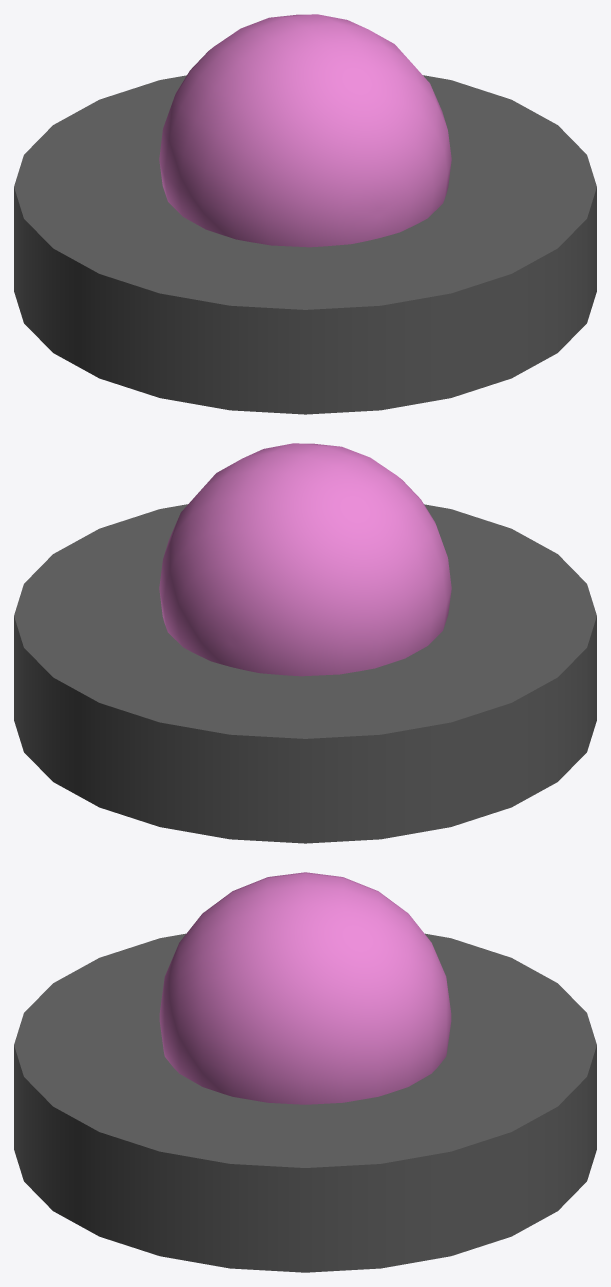
The model's file is gems_opal_2.obj.
3 views of the same model, one above another, from view 1: azimuth 30°, elevation 25°; view 2: azimuth 150°, elevation 25°; view 3: azimuth 270°, elevation 25° (orthographic).
Parts seen in each view (by area): view 1: mergedBlocks; view 2: mergedBlocks; view 3: mergedBlocks.
Part boxes in pixels (<box>): mergedBlocks: <box>14,14,596,414</box>; mergedBlocks: <box>14,443,596,843</box>; mergedBlocks: <box>14,872,596,1272</box>.
Size of the model in its own units: 1 by 0.5 by 1.
